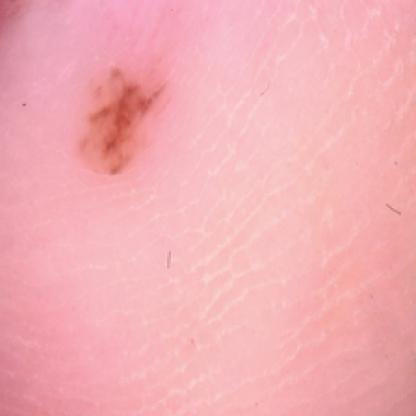benign: (87, 52, 152, 171)
